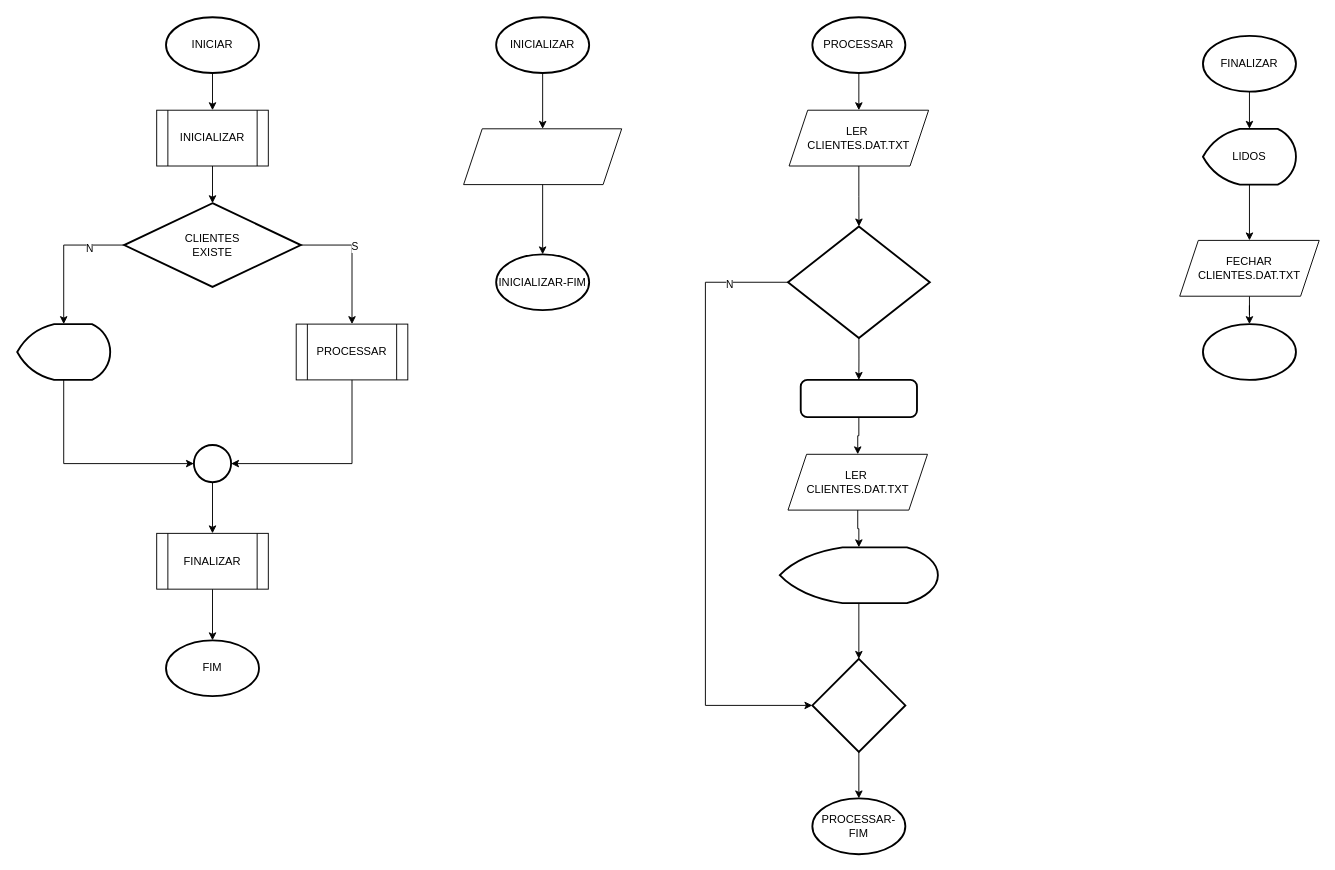
Image size: 1335x870. Some labels were removed from this diagram. Each missing label, with the centre of its shape:
"ABRIR CLIENTES.DAT.TXT" belongs at [542,156].
"CLIENTES.DAT.TXT TEM REGISTRO" belongs at [858,282].
"EOF" belongs at [858,705].
"FINALIZAR-FIM" belongs at [1249,351].
"LIDOS = LIDOS + 1" belongs at [858,398].
"LISTAR REGISTROS" belongs at [858,575].
"NAO EXISTE" belongs at [63,351].
